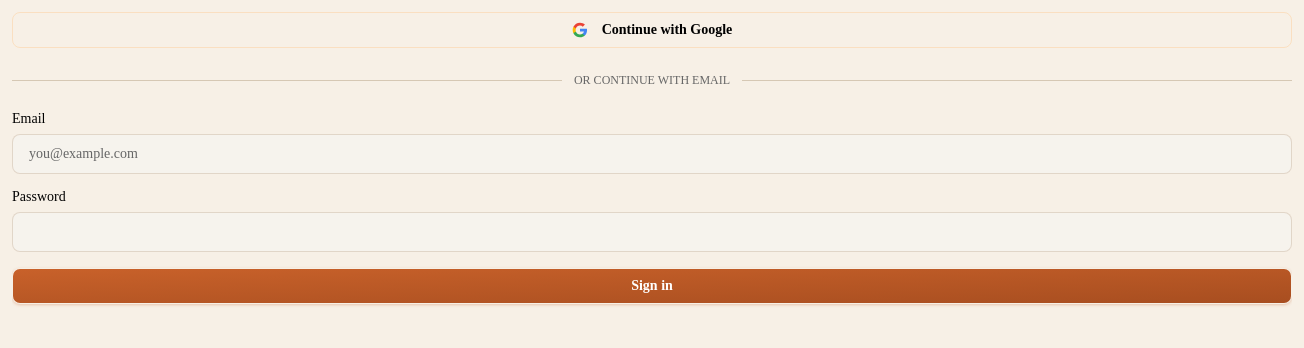
Test: LoginForm › shows error when password is empty
The width and height of the screenshot is (1304, 348).
Type "test@example.com" into the field labelled "Email" at (652,154), box [12,134,1292,174]
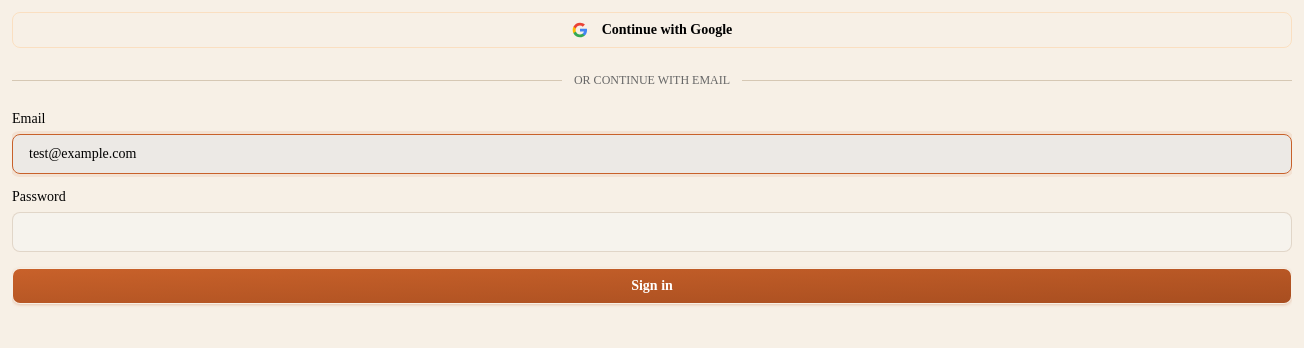
Click the button "Sign in" at (652,286), box [12,268,1292,304]
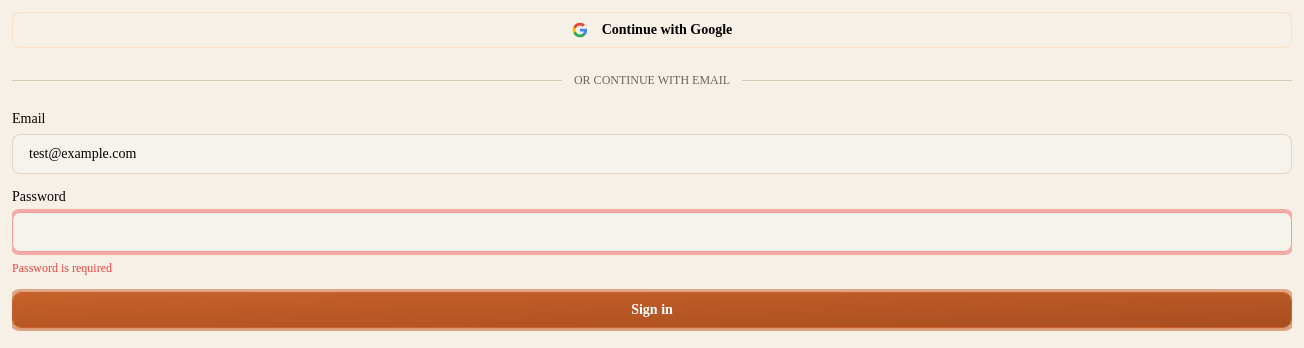
Now the text "Password is required" is shown, box [12,261,112,275]
